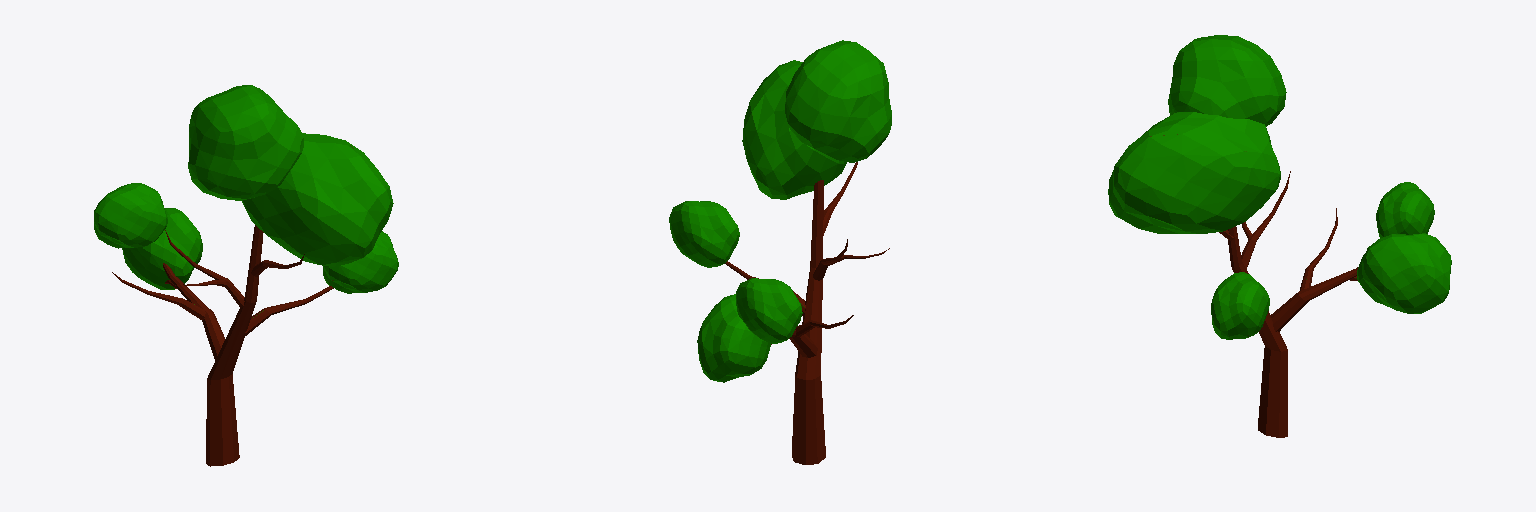
3 renders of one model, left to right at view 1: azimuth 30°, elevation 25°; view 2: azimuth 150°, elevation 25°; view 3: azimuth 270°, elevation 25°, orthographic.
Visible parts, largest first — view 1: default3; view 2: default3; view 3: default3.
Boxes of the visible parts, <box> form: default3: <box>94,85,398,466</box>; default3: <box>669,40,891,464</box>; default3: <box>1108,35,1451,437</box>.
Bounding box in the file's own units: 6.42 × 10.42 × 8.25.
Materials: 2 (1 with a texture image).